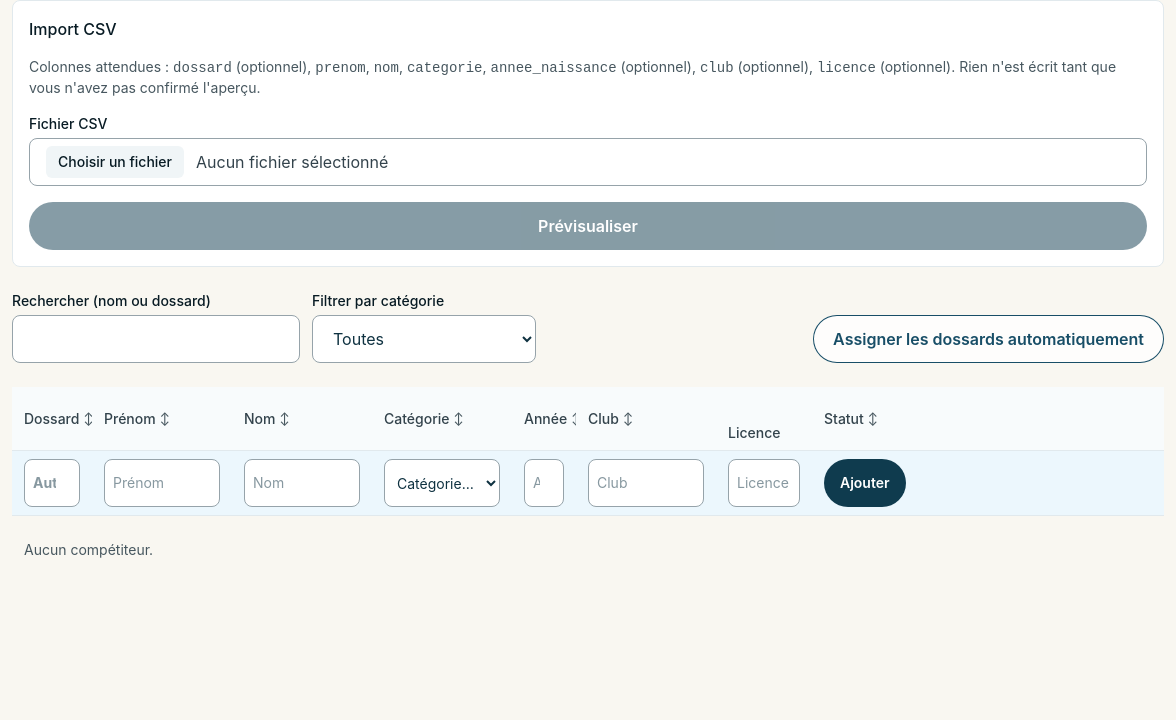
Test: CompetitorsTab — ligne d’ajout rapide › refuse une ligne incomplète et l’annonce sans rien envoyer
In the field with placeholder "Prénom": (162, 483) [104, 459, 220, 507], type "Ana"
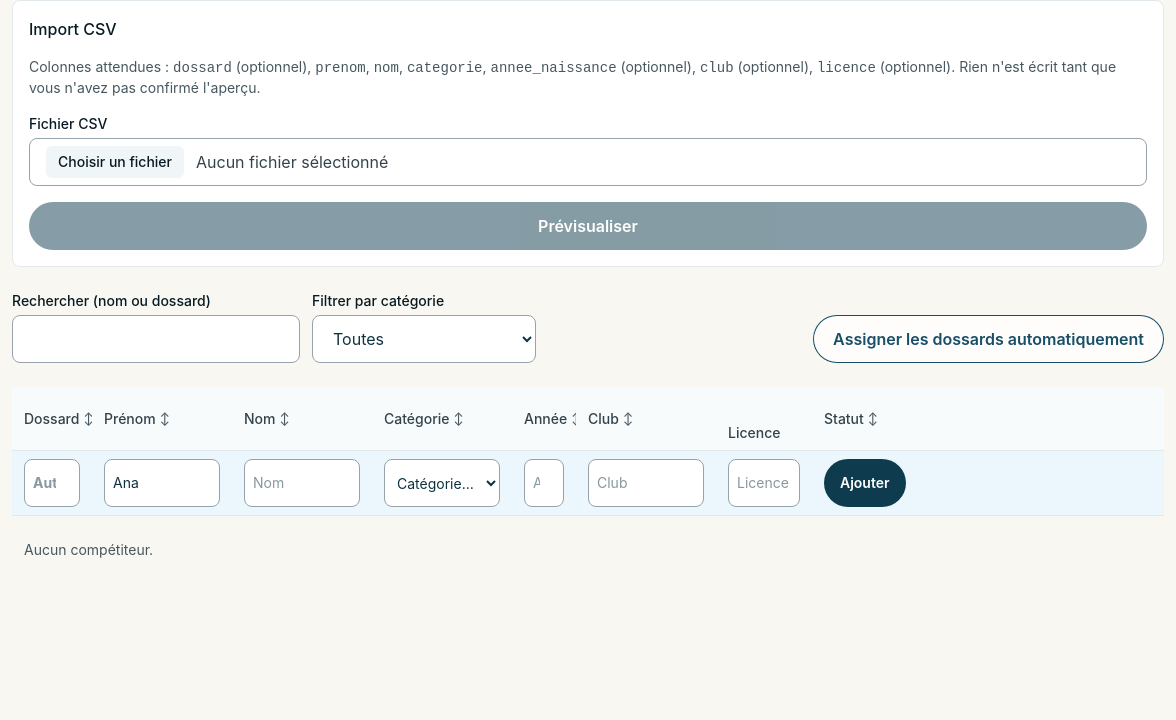
Press Enter in the field with placeholder "Prénom", box [104, 459, 220, 507]
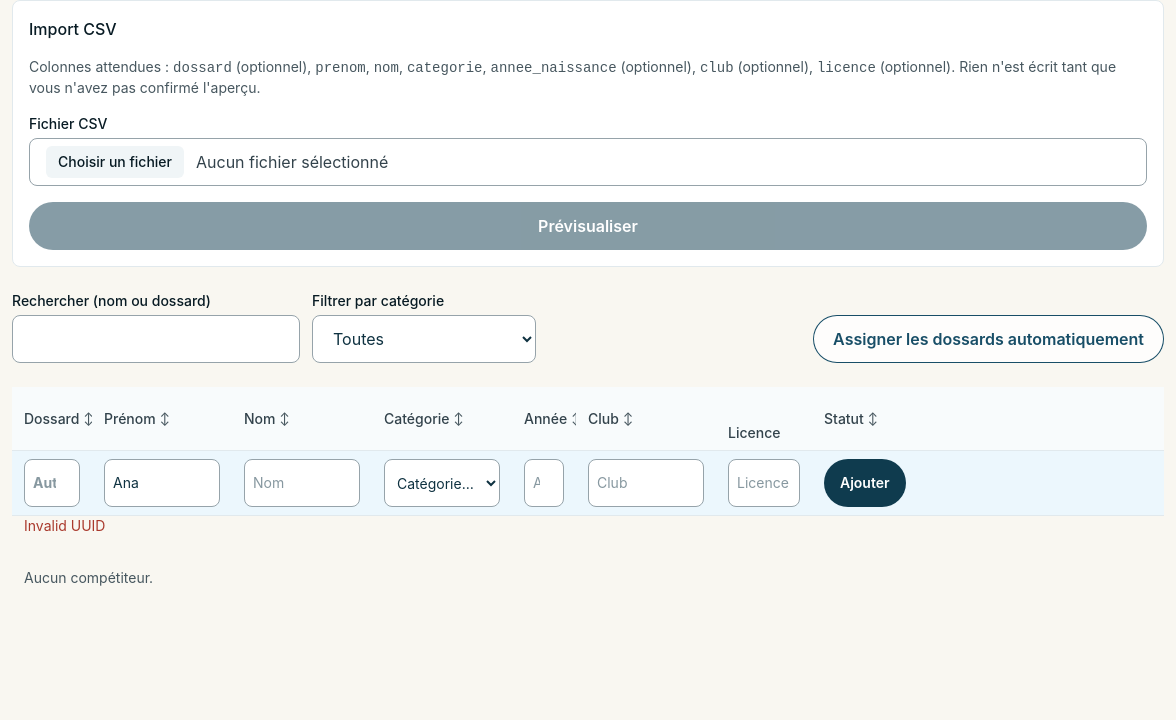
Check: the message "Invalid UUID" is shown, box [24, 517, 106, 534]
